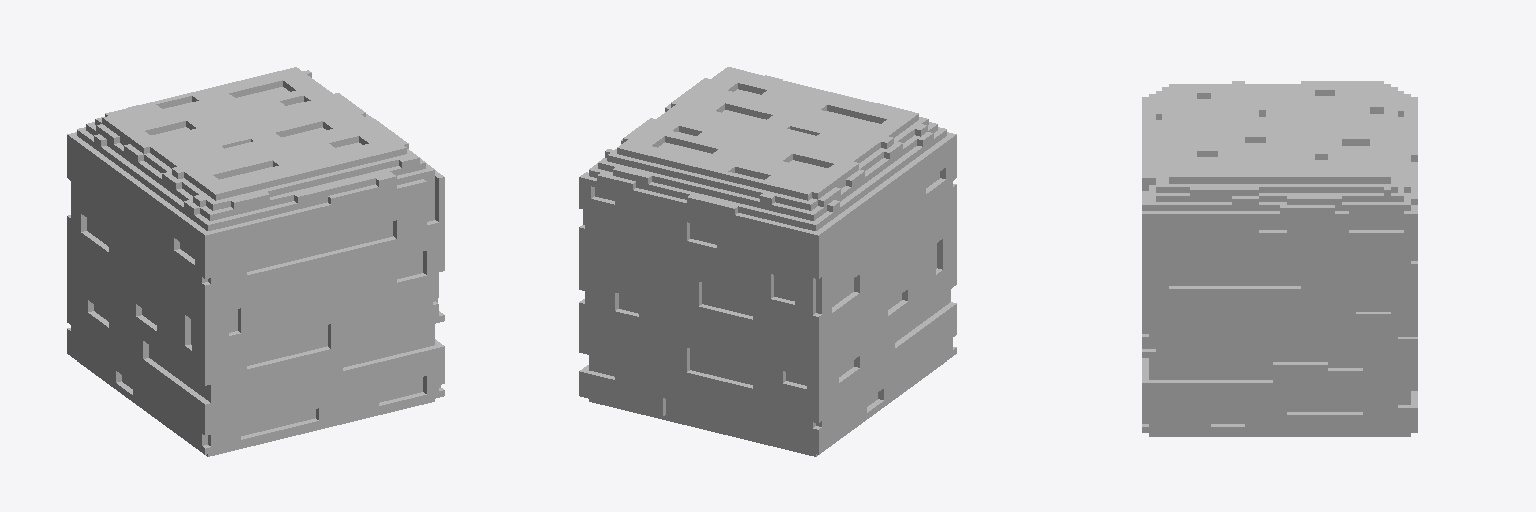
The model's file is Rock 1.obj.
3 renders of one model, left to right at view 1: azimuth 30°, elevation 25°; view 2: azimuth 150°, elevation 25°; view 3: azimuth 270°, elevation 25°, orthographic.
Visible parts, largest first — view 1: object 1; view 2: object 1; view 3: object 1.
Part boxes in pixels (x1,y1,x2,y2): object 1: (67,67,444,456); object 1: (579,67,956,456); object 1: (1142,81,1417,436).
Bounding box in the file's own units: 4 × 4 × 4.